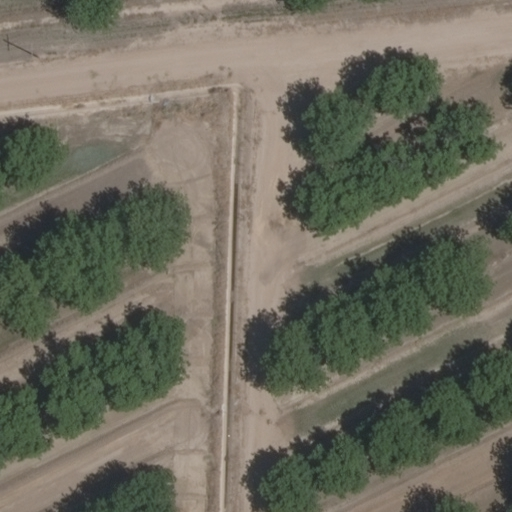DT: (28, 46, 43, 64)
